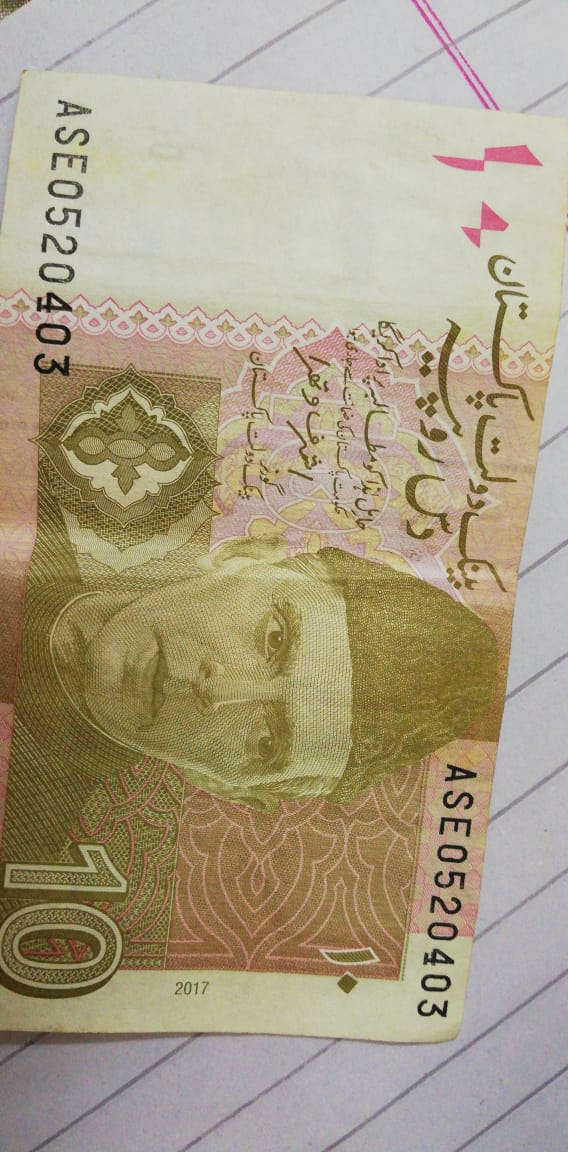10 rupee: (5, 61, 566, 1037)
